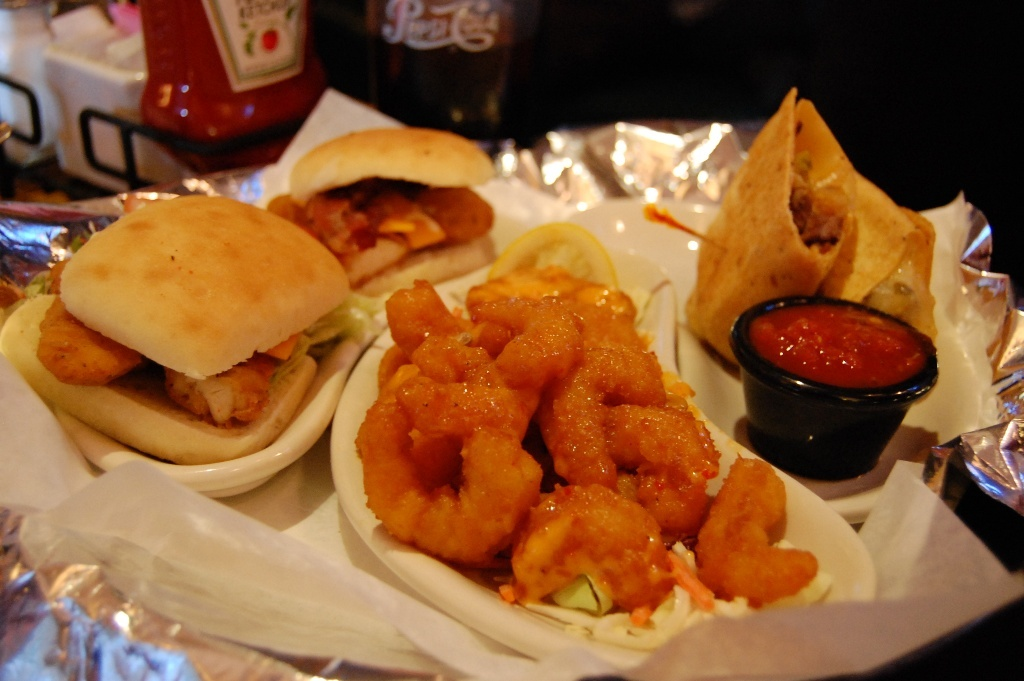Hamburger: (0, 195, 350, 464), (268, 132, 499, 296)
